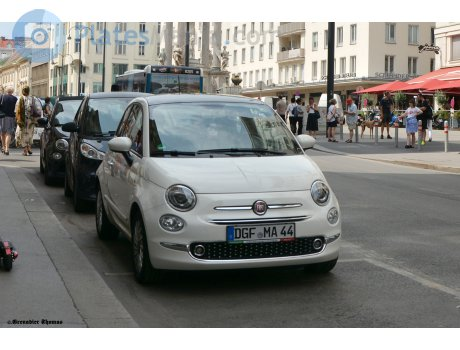License Plates: (232, 227, 291, 236)
